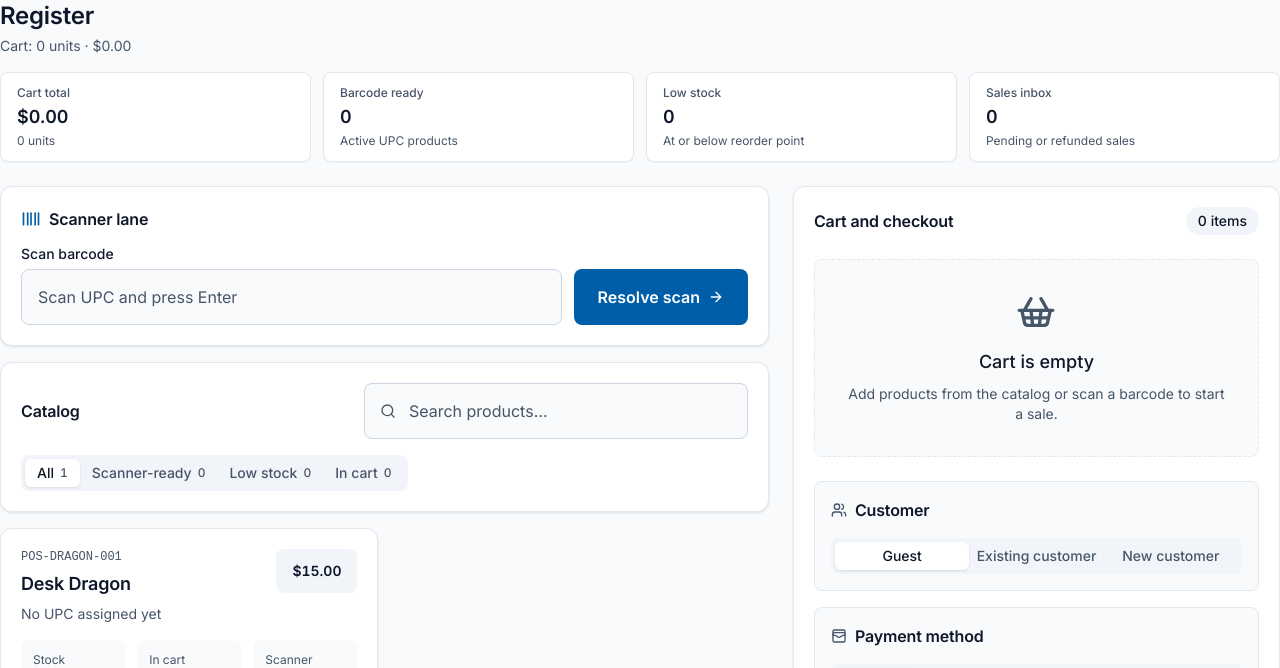
POSPage › adds a product from the barcode scan lane
Expected: the heading "Desk Dragon" is shown, [21, 573, 131, 594]
Type "012345678901" into the field labelled "Scan barcode". click: [291, 297]
box: [21, 269, 562, 325]
Then press Enter
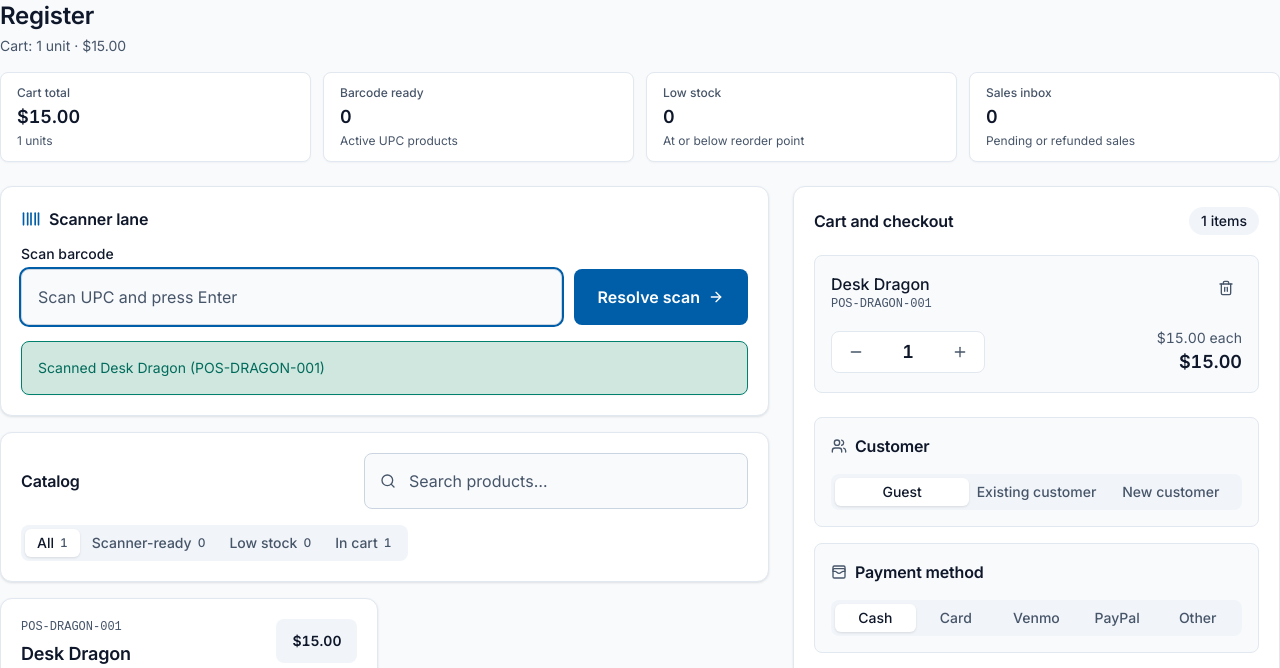
Expected: the text "Scanned Desk Dragon (POS-DRAGON-001)" is shown, [38, 359, 325, 376]
Expected: the text named "Desk Dragon quantity" reads "1", [902, 341, 914, 362]
